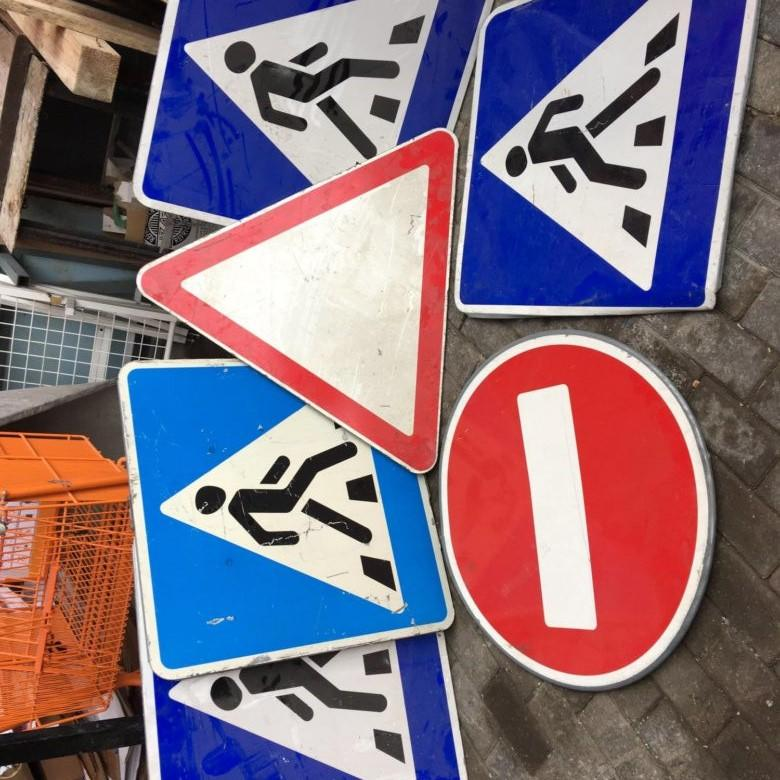obstructed_road_sign: (116, 359, 456, 681), (130, 0, 495, 225), (142, 633, 468, 780)
road_sign: (134, 126, 461, 477), (435, 330, 716, 689), (450, 0, 763, 313)
